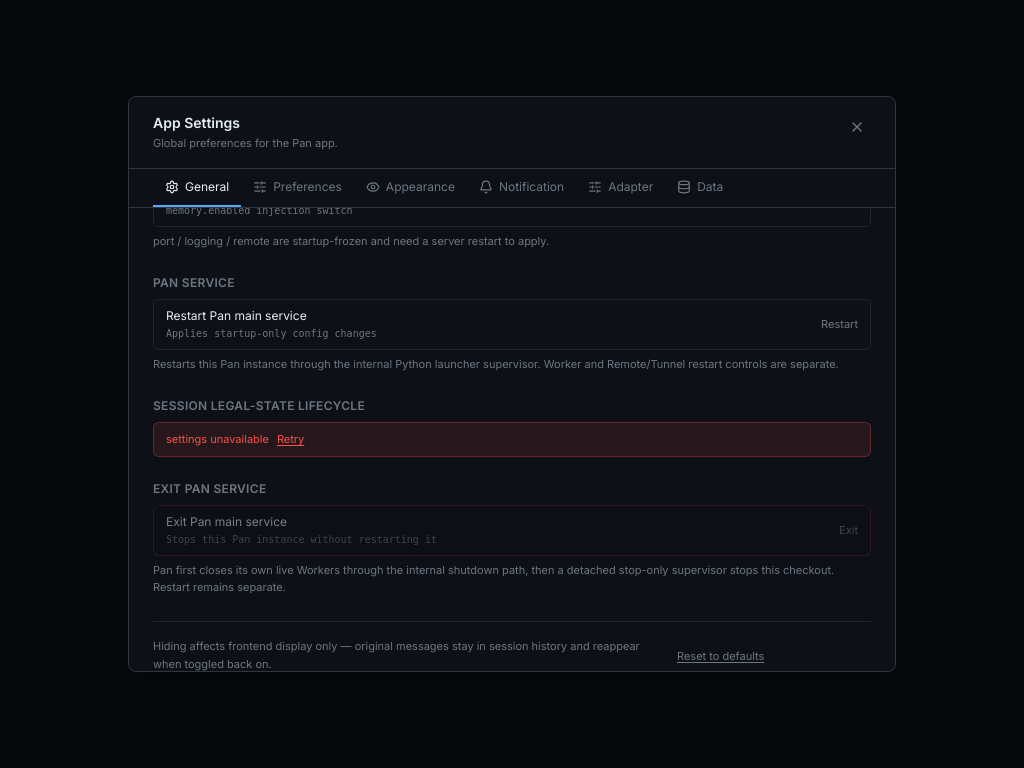
Scenario: AppSettingsModal › shows a preference load error and retries the server read
(page scrolled)
Expected: the message "settings unavailable Retry" is shown, [153,422,871,456]
Expected: the message shows "settings unavailable", [166,432,269,446]
Click the button "Retry".
click(291, 439)  # box [277,431,304,448]
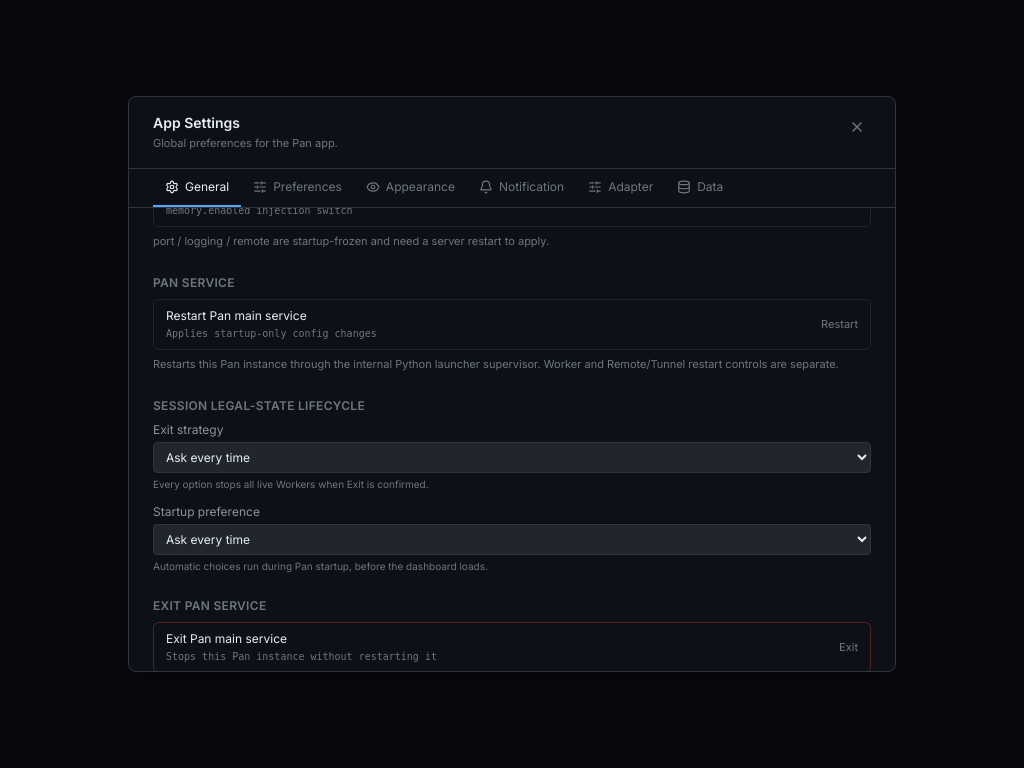
Expected: the dropdown with id "session-exit-strategy" shows "Ask every time", [153,442,871,473]
